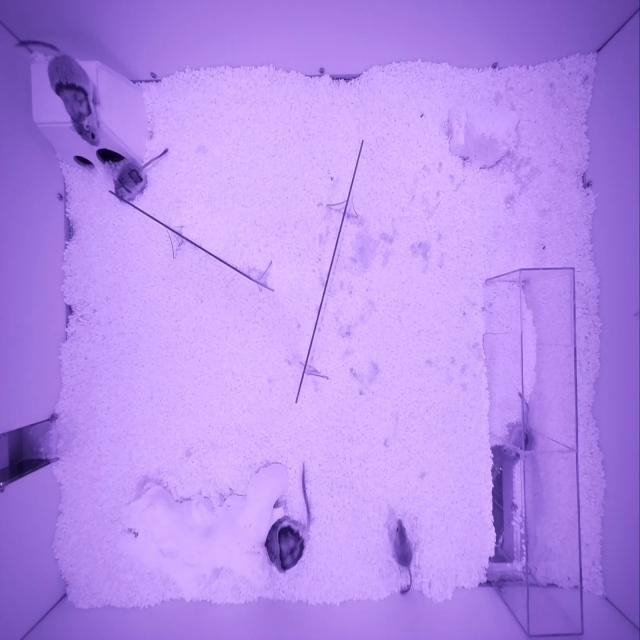adult_back: (264, 515, 311, 573)
adult_front: (47, 54, 101, 147)
pup_fluffy: (392, 517, 413, 568)
pup_spotted: (113, 161, 148, 203)
pup_v_stripe: (499, 423, 530, 460)
